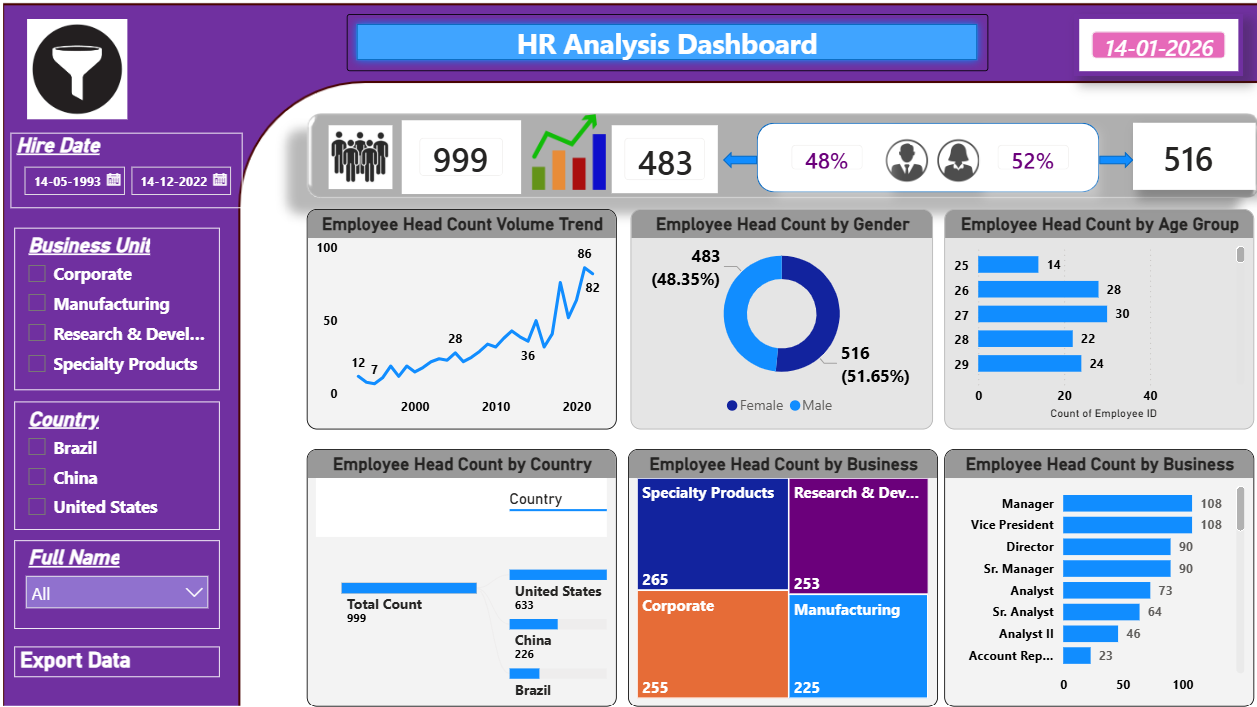

The dashboard page shown, as its layout file describes it:
{"tool":"powerbi","page":{"name":"HR Analysis","canvas":[1280,720],"ordinal":1},"visuals":[{"type":"cardVisual","fields":{"Data":["Employee Data.Total_Count"]},"box":[418.1,132,115.5,71.5],"z":0},{"type":"image","box":[308.8,135.8,140,61.8],"z":1000},{"type":"lineChart","title":"Employee Head Count Volume Trend","fields":{"Y":["CountNonNull(Employee Data.Employee ID)"],"Category":["Employee Data.Hire Date.Variation.Date Hierarchy.Year"]},"box":[326.6,216.8,299.1,212.7],"z":2000},{"type":"donutChart","title":"Employee Head Count by Gender","fields":{"Category":["Employee Data.Gender"],"Y":["CountNonNull(Employee Data.Employee ID)"]},"box":[639.5,216.8,292.3,212.7],"z":3000},{"type":"clusteredBarChart","title":"Employee Head Count by Age Group","fields":{"Category":["Employee Data.Age"],"Y":["CountNonNull(Employee Data.Employee ID)"]},"box":[942.7,216.8,299.1,212.7],"z":4000},{"type":"decompositionTreeVisual","title":"Employee Head Count by Country","fields":{"Analyze":["CountNonNull(Employee Data.Country)"],"ExplainBy":["Employee Data.Country"]},"box":[326.6,448.7,299.1,249.7],"z":5000},{"type":"treemap","title":"Employee Head Count by Business","fields":{"Group":["Employee Data.Business Unit"],"Values":["CountNonNull(Employee Data.Employee ID)"]},"box":[636.7,448.7,299.1,249.7],"z":6000},{"type":"clusteredBarChart","title":"Employee Head Count by Business","fields":{"Category":["Employee Data.Job Title"],"Y":["CountNonNull(Employee Data.Employee ID)"]},"box":[942.7,448.7,299.1,249.7],"z":7000},{"type":"shape","box":[761.6,134.5,330.7,67.2],"z":8000},{"type":"image","box":[878.2,137.2,105.7,65.9],"z":9000},{"type":"cardVisual","fields":{"Data":["Employee Data.Total_Male_Count"]},"box":[616.1,131.7,112.5,75.5],"z":10000},{"type":"cardVisual","fields":{"Data":["Employee Data.Total_Female_Count","select"]},"box":[1124.9,133.4,118.3,64.6],"z":11000},{"type":"cardVisual","fields":{"Data":["Employee Data.Male_Percentage"]},"box":[776.7,137.2,105.7,60.4],"z":12000},{"type":"cardVisual","fields":{"Data":["Employee Data.Female_Percentage"]},"box":[975.6,137.2,105.7,60.4],"z":13000},{"type":"shape","box":[365,28.8,618.9,54.9],"z":14000},{"type":"image","box":[449.7,110,259.9,104.5],"z":15000},{"type":"shape","box":[1092.3,161.9,32.9,16.5],"z":16000},{"type":"shape","box":[728.6,161.9,32.9,16.5],"z":17000},{"type":"slicer","fields":{"Values":["Employee Data.Business Unit"]},"box":[44.2,235.2,198.1,156.8],"z":18000},{"type":"slicer","fields":{"Values":["Employee Data.Country"]},"box":[44.2,403.4,198.1,124],"z":19000},{"type":"slicer","fields":{"Values":["Employee Data.Full Name"]},"box":[44.2,537.4,198.1,85.5],"z":20000},{"type":"slicer","title":"Hire Date","fields":{"Values":["Employee Data.Hire Date"]},"box":[41.3,144,223.8,72.7],"z":21000},{"type":"cardVisual","fields":{"Data":["Min(Query1.Date)"]},"box":[1067.6,28.8,163.3,60.4],"z":22000},{"type":"image","box":[41.3,34.2,128.3,96.9],"z":23000},{"type":"tableEx","title":"Export Data","fields":{"Values":["Employee Data.Full Name","Employee Data.Gender","Employee Data.Female_Percentage"]},"box":[44.2,640,198.1,29.9],"z":24000}]}

Visuals, with their boxes in screenshot pixels (x1, y1, x2, y2), scaled from the page's 1280x720 canvas onto the 1257x707 screenshot:
cardVisual - Employee Data.Total_Count: BBox(411, 130, 524, 200)
image: BBox(303, 133, 441, 194)
"Employee Head Count Volume Trend" lineChart: BBox(321, 213, 614, 422)
"Employee Head Count by Gender" donutChart: BBox(628, 213, 915, 422)
"Employee Head Count by Age Group" clusteredBarChart: BBox(926, 213, 1219, 422)
"Employee Head Count by Country" decompositionTreeVisual: BBox(321, 441, 614, 686)
"Employee Head Count by Business" treemap: BBox(625, 441, 919, 686)
"Employee Head Count by Business" clusteredBarChart: BBox(926, 441, 1219, 686)
shape: BBox(748, 132, 1073, 198)
image: BBox(862, 135, 966, 199)
cardVisual - Employee Data.Total_Male_Count: BBox(605, 129, 716, 203)
cardVisual - Employee Data.Total_Female_Count x select: BBox(1105, 131, 1221, 194)
cardVisual - Employee Data.Male_Percentage: BBox(763, 135, 867, 194)
cardVisual - Employee Data.Female_Percentage: BBox(958, 135, 1062, 194)
shape: BBox(358, 28, 966, 82)
image: BBox(442, 108, 697, 211)
shape: BBox(1073, 159, 1105, 175)
shape: BBox(716, 159, 748, 175)
slicer - Employee Data.Business Unit: BBox(43, 231, 238, 385)
slicer - Employee Data.Country: BBox(43, 396, 238, 518)
slicer - Employee Data.Full Name: BBox(43, 528, 238, 612)
"Hire Date" slicer: BBox(41, 141, 260, 213)
cardVisual - Min(Query1.Date): BBox(1048, 28, 1209, 88)
image: BBox(41, 34, 167, 129)
"Export Data" tableEx: BBox(43, 628, 238, 658)
